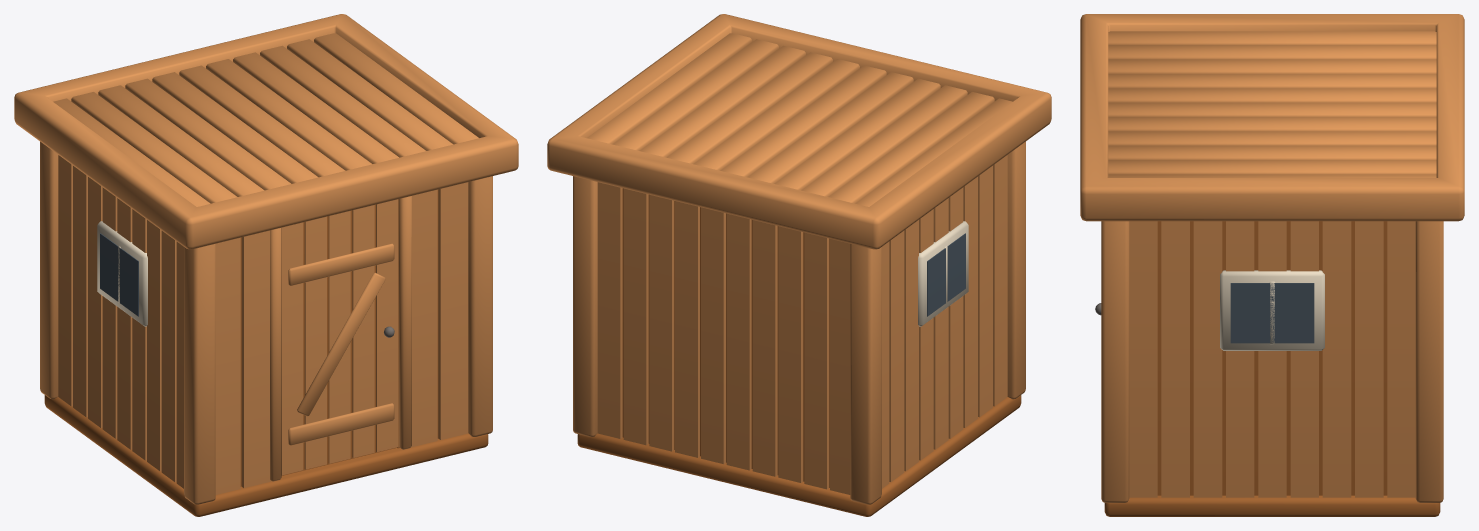
The model's file is shed.glb.
3 views of the same model, side by side, from view 1: azimuth 30°, elevation 25°; view 2: azimuth 150°, elevation 25°; view 3: azimuth 270°, elevation 25° (orthographic). The views are drawn at different scales.
Visible parts, largest first — view 1: body, shed_door; view 2: body; view 3: body.
Boxes of the visible parts, box(x1,y1,x2,y2) form: body: box(14, 14, 518, 516); shed_door: box(281, 199, 398, 475); body: box(547, 14, 1051, 516); body: box(1080, 14, 1464, 516).
Bounding box in the file's own units: 2.4 × 2.15 × 2.2.
